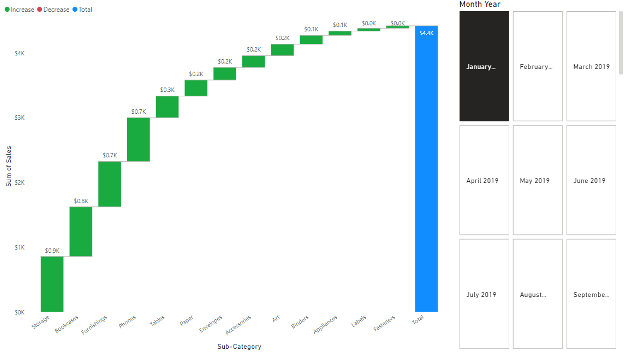

Layout of this report page (visuals, bound fields, positions):
{"tool":"powerbi","page":{"name":"Waterfall","canvas":[1280,720],"ordinal":0},"visuals":[{"type":"waterfallChart","fields":{"Category":["Whole_Store_data.Sub-Category"],"Y":["Sum(Whole_Store_data.Sales)"]},"box":[10,0,916.7,720],"z":0},{"type":"advancedSlicerVisual","fields":{"Values":["Whole_Store_data.Month Year"]},"box":[937,0,343,720],"z":1000}]}

Visuals, with their boxes in screenshot pixels (x1, y1, x2, y2), scaled from the page's 1280x720 canvas onto the 624x352 screenshot:
waterfallChart - Whole_Store_data.Sub-Category x Sum(Whole_Store_data.Sales): <box>5,0,452,351</box>
advancedSlicerVisual - Whole_Store_data.Month Year: <box>457,0,623,351</box>
